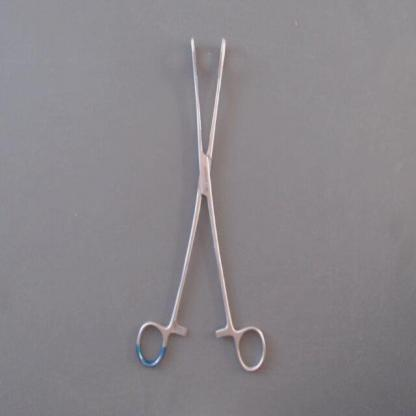Sponge Forceps: (132, 26, 270, 380)
